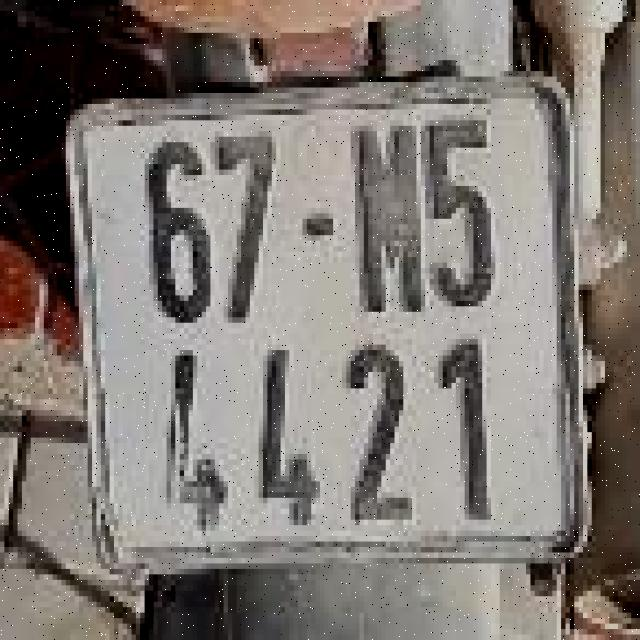1: (438, 336, 518, 539)
2: (340, 334, 427, 530)
4: (241, 339, 324, 542), (153, 336, 228, 544)
5: (419, 107, 502, 326)
6: (140, 137, 215, 328)
7: (215, 126, 289, 323)
M: (349, 115, 423, 323)
